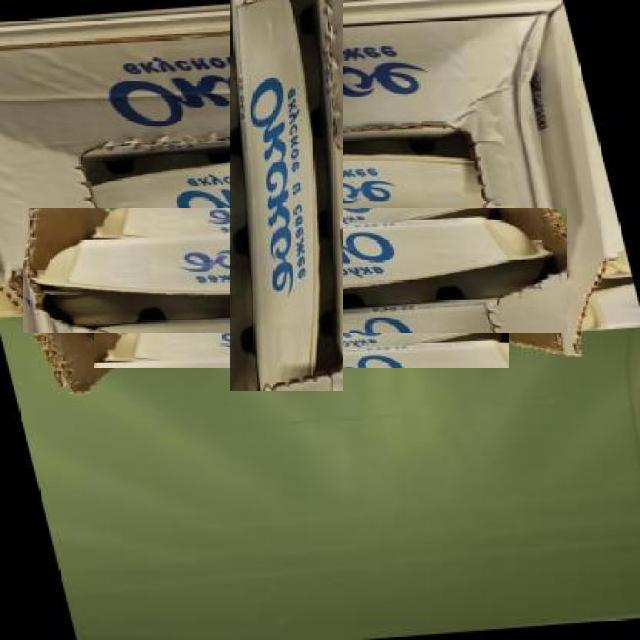Egg: (23, 207, 567, 333), (230, 0, 343, 391), (93, 295, 509, 368)
